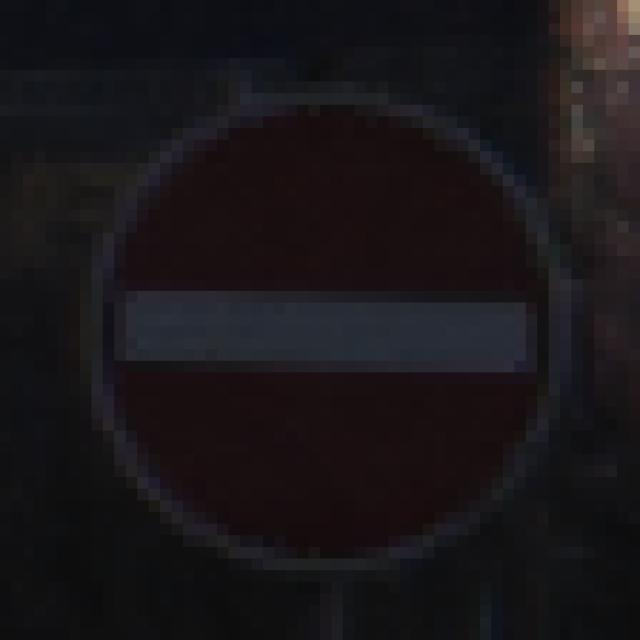No Entry: (69, 59, 584, 583)
